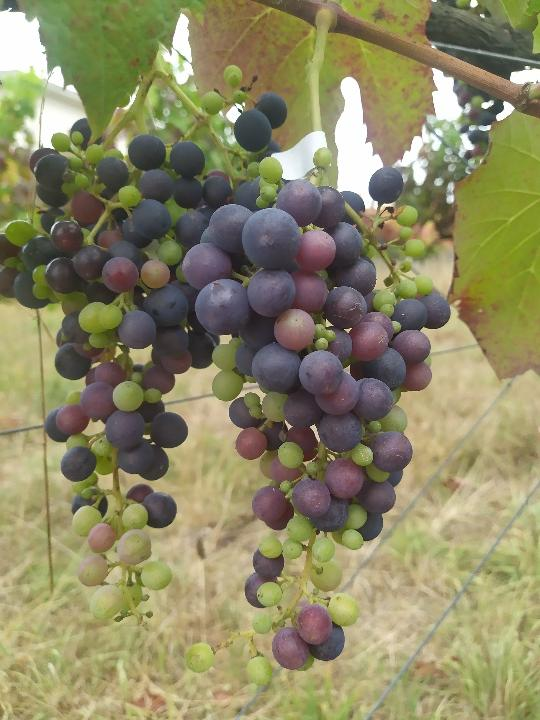grape: (0, 65, 290, 634), (182, 149, 456, 691)
